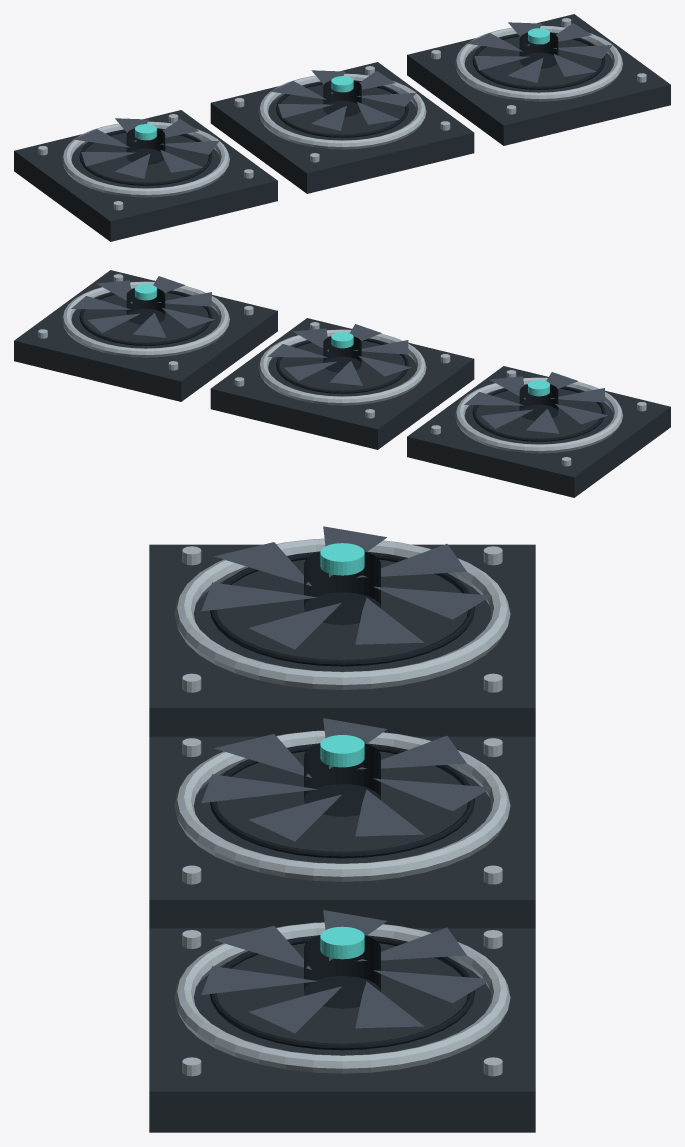
File: fan-120-argb.glb
The picture shows the model from 3 angles, top to bottom: view 1: azimuth 30°, elevation 25°; view 2: azimuth 150°, elevation 25°; view 3: azimuth 270°, elevation 25°; orthographic projection. The views are drawn at different scales.
Visible parts, largest first — view 1: fan-120-argb; view 2: fan-120-argb; view 3: fan-120-argb.
Part boxes in pixels (bbox=[...]): fan-120-argb: bbox=[14, 14, 670, 241]; fan-120-argb: bbox=[14, 270, 670, 497]; fan-120-argb: bbox=[149, 526, 535, 1132].
Bounding box in the file's own units: 2.14 × 0.21 × 0.64.
